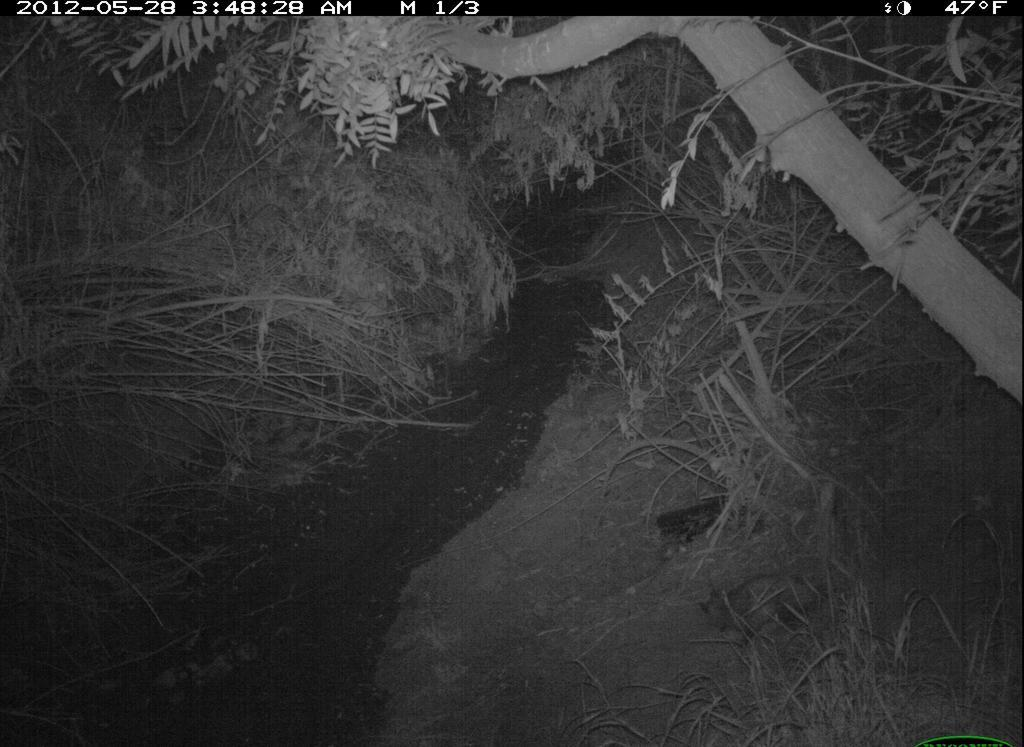opossum: (693, 568, 849, 652)
